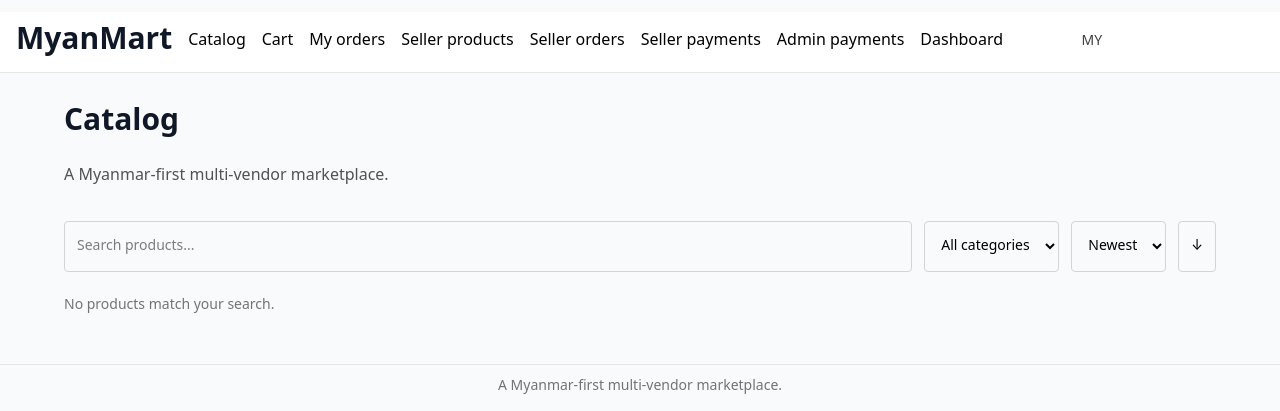
CatalogPage › shows empty results and network errors
Check: the text "No products match your search." is shown, box [64,290,274,321]
Select "Price" in the dropdown named "Sort by". click: [1119, 246]
box: [1071,221,1166,272]
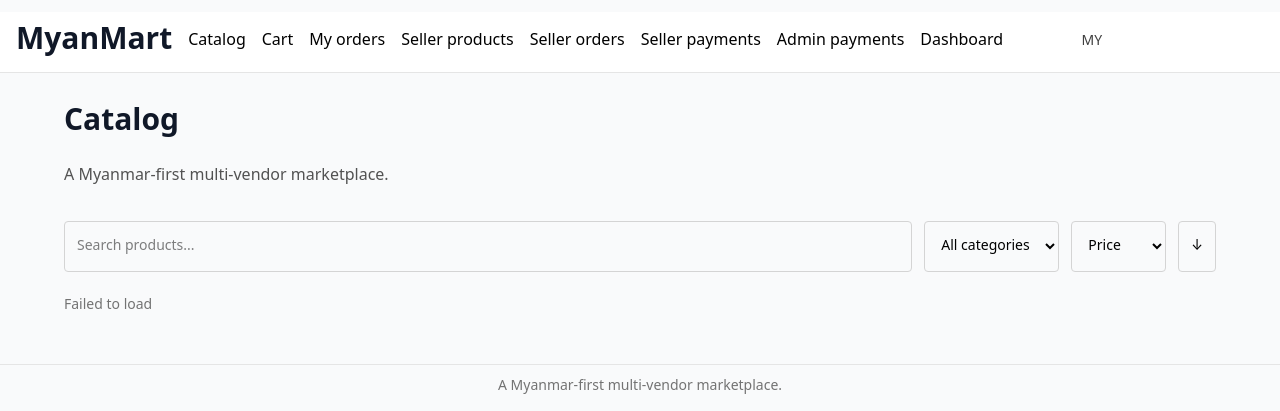
Check: the message reads "Failed to load", box [64,290,152,321]
